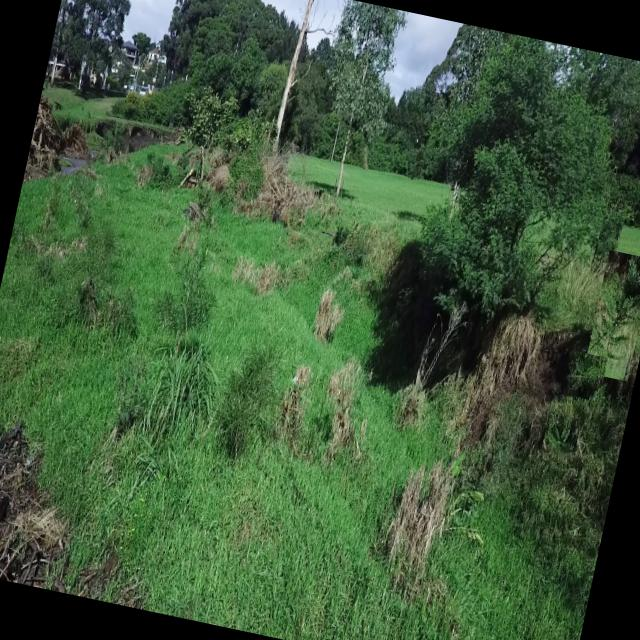Mysore-Thorn-Weed: (583, 250, 640, 381), (560, 349, 607, 402), (539, 412, 581, 466)
